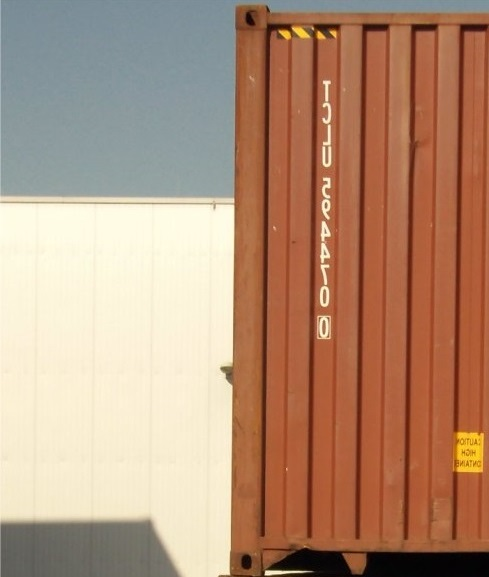container_no_door: (226, 14, 489, 574)
